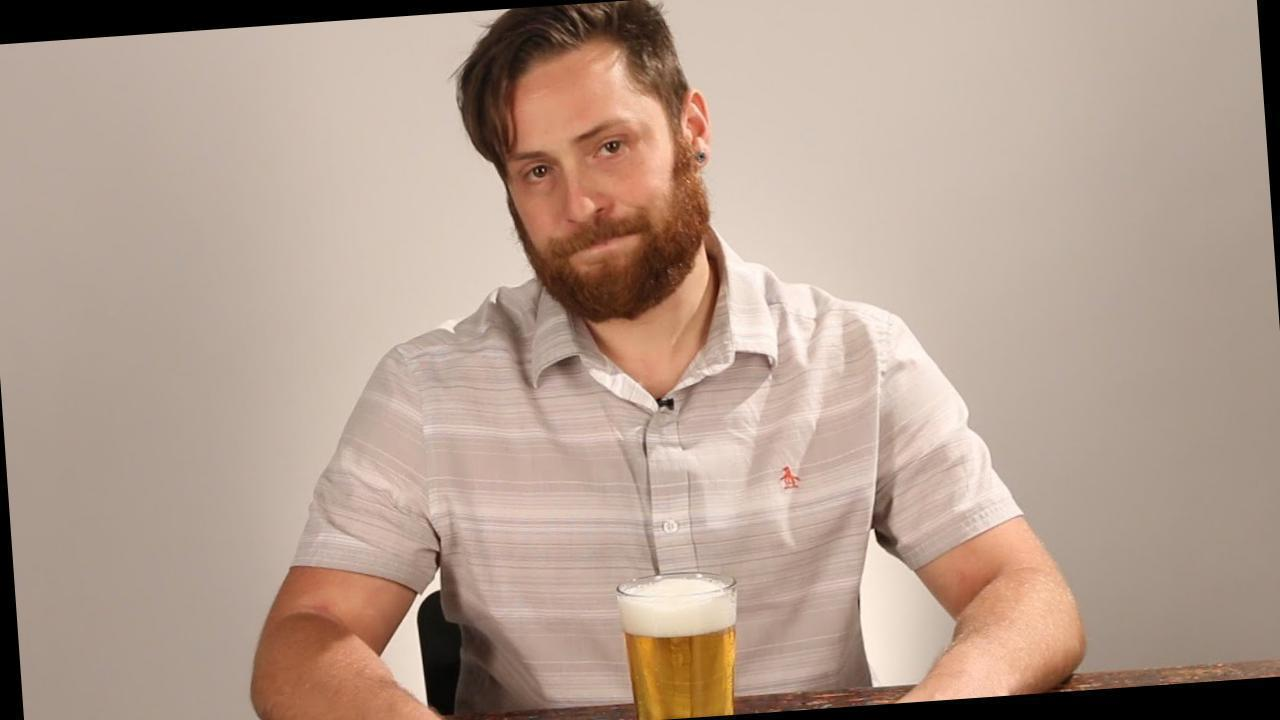Drunk: (501, 82, 696, 298)
